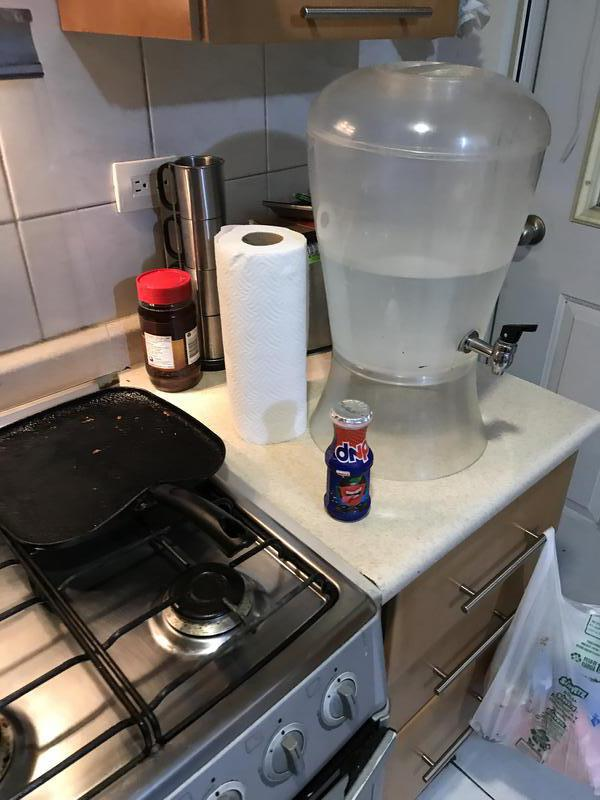danup: (324, 403, 375, 520)
